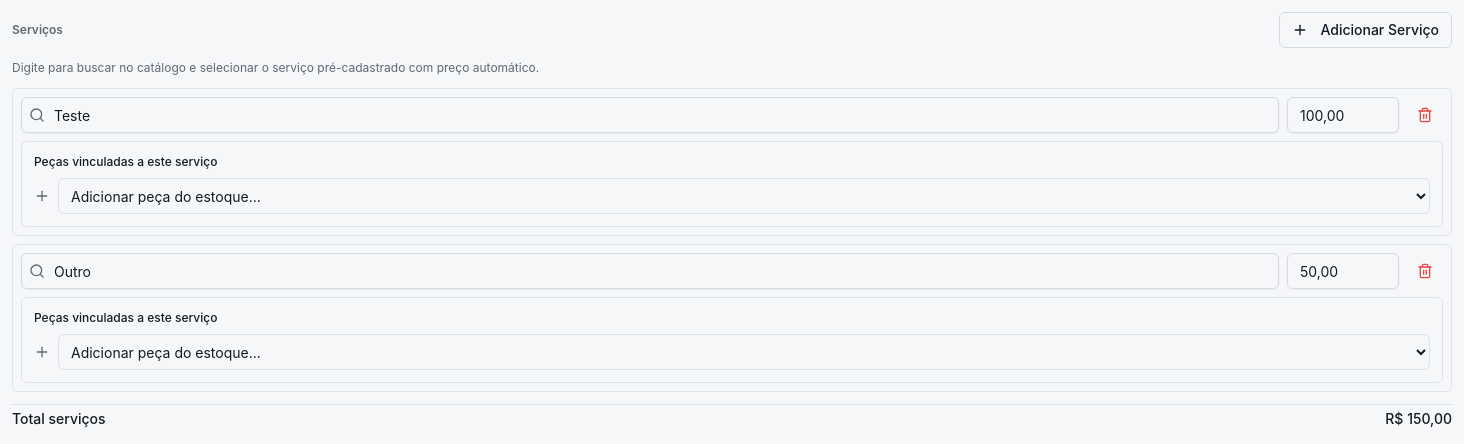
it: AjusteOrcamentoServicos › remove serviço ao clicar no botão de lixeira
Click the 1st button named "Remover serviço": (1425, 115) [1407,97,1443,133]
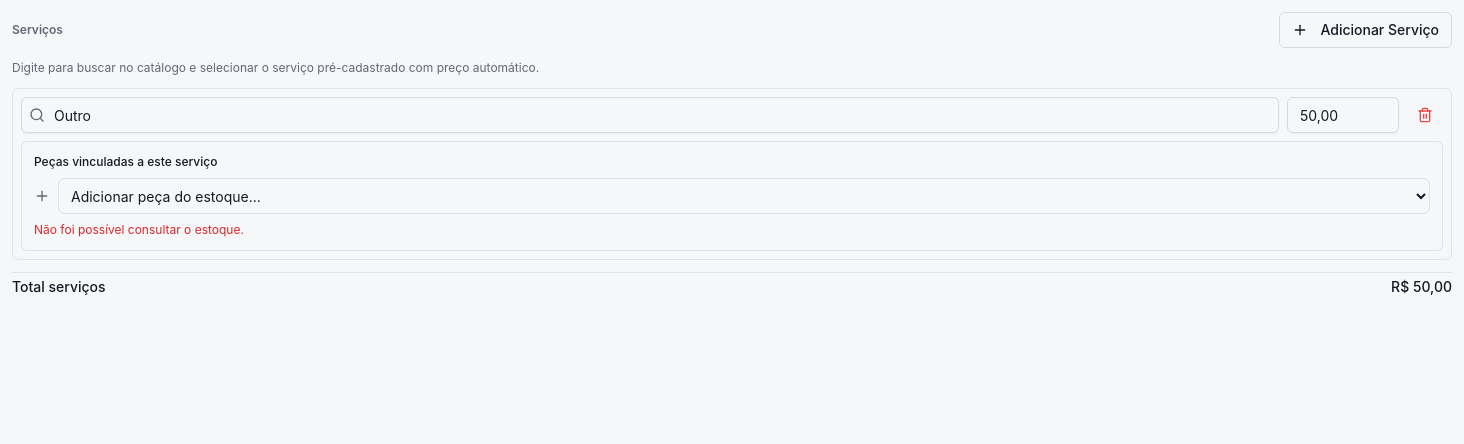
expect the number of fields with placeholder "Valor" is 1: met, box [1287,97,1399,133]
